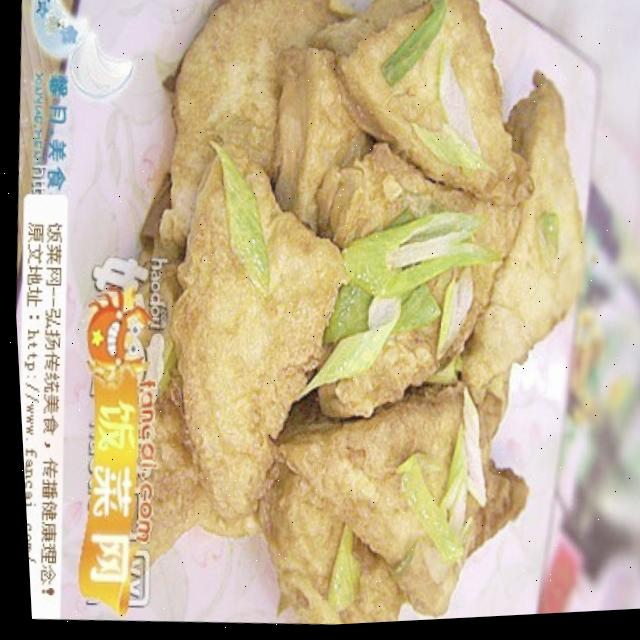豆腐料理: (38, 0, 640, 638)
